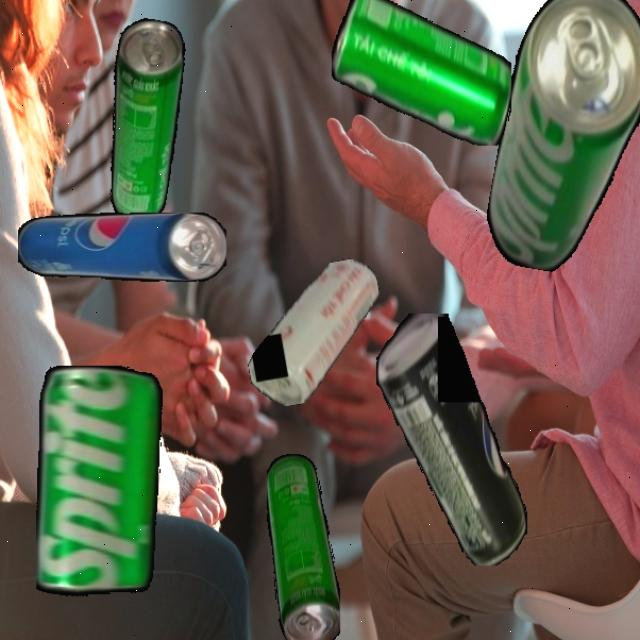debris: (479, 0, 640, 282), (376, 312, 528, 566), (36, 364, 202, 596), (331, 0, 511, 146), (234, 255, 395, 412), (89, 15, 196, 226), (17, 212, 226, 282), (266, 453, 340, 640)
